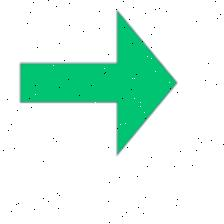right: (16, 6, 187, 160)
